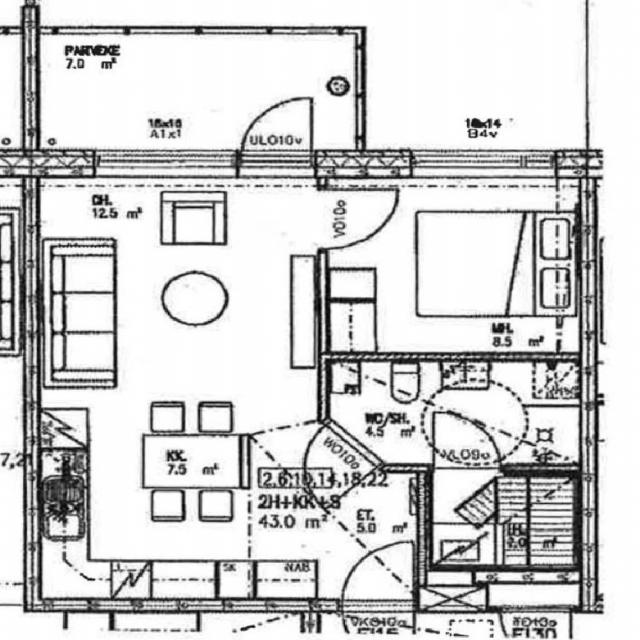door: (272, 419, 383, 508), (242, 94, 312, 178), (342, 540, 413, 612), (317, 189, 401, 248), (434, 412, 498, 476)
